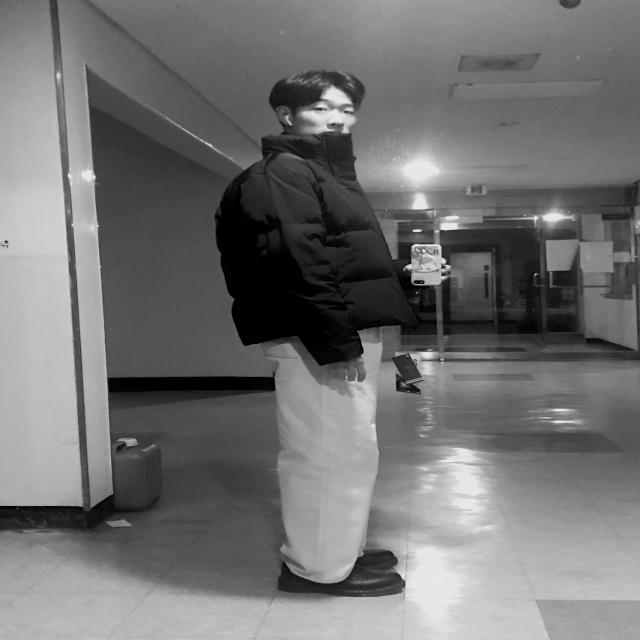cottonpants: (262, 318, 386, 585)
padding: (217, 124, 421, 362)
